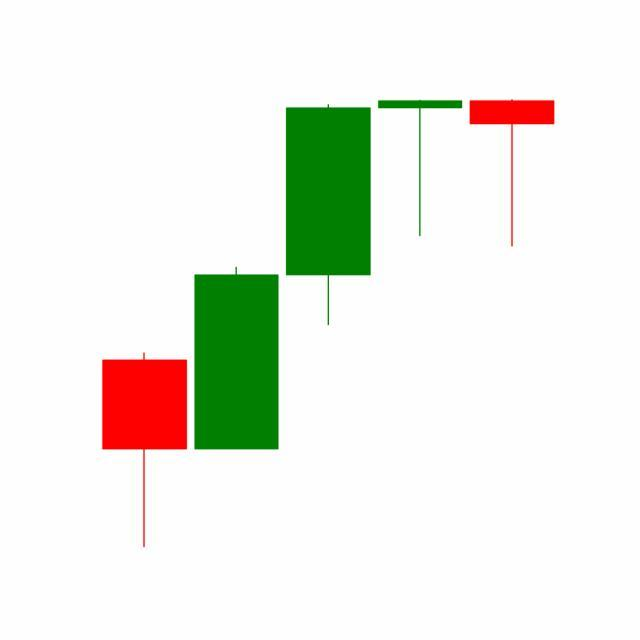Dragonfly Doji: (374, 99, 468, 239)
